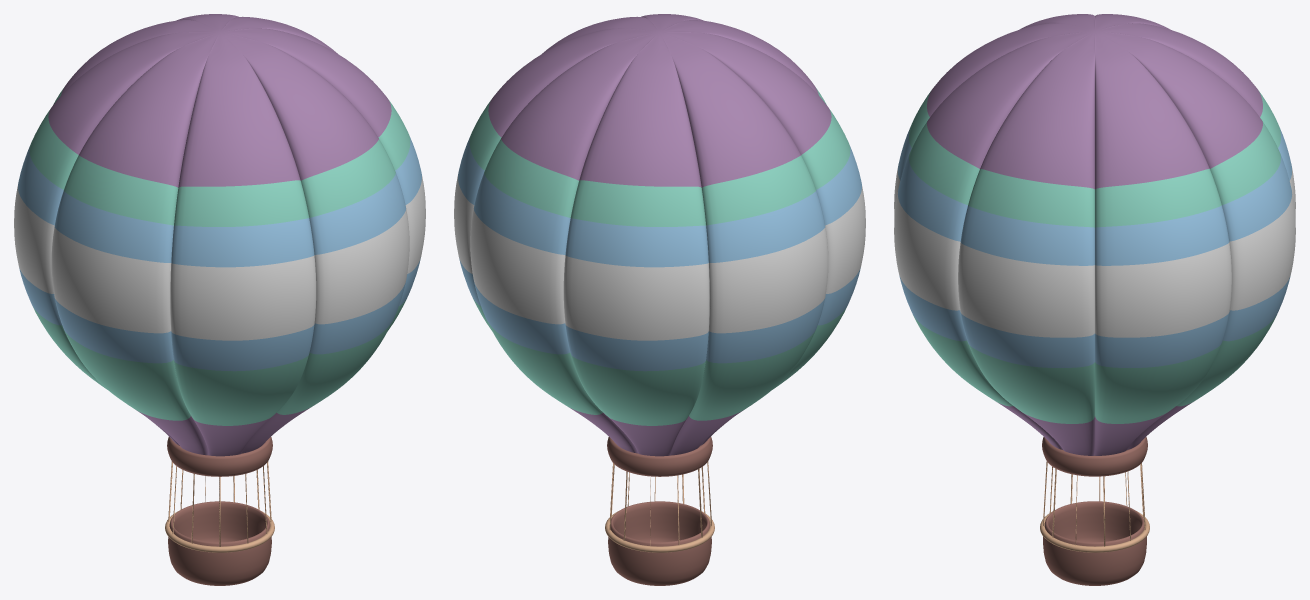
The model's file is balloon.glb.
3 renders of one model, left to right at view 1: azimuth 30°, elevation 25°; view 2: azimuth 150°, elevation 25°; view 3: azimuth 270°, elevation 25°, orthographic.
Parts seen in each view (by area): view 1: Sphere, Circle, Circle.001, Cycloid, BezierCircle; view 2: Sphere, Circle, Circle.001, Cycloid, BezierCircle; view 3: Sphere, Circle, Circle.001, Cycloid, BezierCircle.
Boxes of the visible parts, x1,y1,x2,y2 form: Sphere: [14, 14, 425, 456]; Circle: [168, 501, 271, 585]; Circle.001: [167, 437, 272, 476]; Cycloid: [168, 461, 271, 546]; BezierCircle: [165, 511, 274, 552]; Sphere: [454, 14, 865, 456]; Circle: [608, 501, 711, 585]; Circle.001: [607, 437, 712, 476]; Cycloid: [609, 461, 711, 546]; BezierCircle: [605, 511, 714, 552]; Sphere: [894, 14, 1295, 455]; Circle: [1043, 501, 1146, 585]; Circle.001: [1042, 437, 1147, 476]; Cycloid: [1042, 461, 1145, 546]; BezierCircle: [1040, 511, 1149, 552].
Size of the model in its own units: 7.99 by 11.83 by 7.99.
